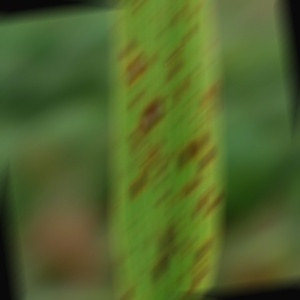Bacterial_Leaf_Blight: (158, 220, 174, 261), (208, 76, 221, 126), (140, 101, 161, 131), (128, 171, 148, 201), (127, 54, 143, 84), (182, 174, 201, 198), (130, 125, 145, 155), (153, 256, 168, 285), (179, 142, 192, 170), (193, 131, 208, 155), (192, 267, 207, 286), (183, 23, 196, 44), (200, 149, 213, 170), (196, 240, 209, 261), (209, 190, 222, 208), (177, 80, 187, 99), (192, 201, 204, 216), (200, 188, 210, 206), (180, 265, 191, 280), (188, 4, 198, 20), (168, 48, 179, 62), (202, 89, 211, 106), (175, 8, 185, 23), (175, 239, 185, 254), (157, 175, 166, 191), (158, 190, 168, 204), (144, 56, 153, 71), (207, 201, 216, 216), (159, 22, 168, 36), (168, 284, 182, 293), (194, 259, 206, 269), (120, 290, 132, 300), (162, 154, 169, 171), (122, 42, 131, 55), (148, 157, 156, 171), (131, 94, 140, 106), (144, 238, 156, 247), (153, 166, 162, 178), (187, 67, 197, 77), (135, 1, 144, 11), (153, 142, 162, 152), (171, 218, 180, 228), (173, 228, 183, 237), (112, 202, 122, 211), (115, 253, 123, 264), (189, 284, 197, 295), (193, 110, 202, 119), (197, 120, 206, 129), (131, 272, 140, 281), (184, 241, 194, 249), (111, 19, 119, 29), (131, 162, 139, 172), (139, 146, 147, 156), (201, 63, 209, 73), (155, 46, 162, 57), (171, 146, 178, 157), (157, 97, 164, 108), (206, 44, 214, 53), (174, 190, 182, 199), (169, 200, 177, 209), (171, 211, 180, 219), (185, 248, 194, 256), (158, 81, 166, 90), (124, 187, 132, 196), (148, 231, 156, 240), (155, 155, 161, 167), (182, 106, 190, 115), (167, 102, 174, 112), (142, 271, 149, 281), (128, 283, 135, 293), (184, 206, 191, 216), (208, 236, 215, 246), (136, 241, 144, 249), (188, 51, 195, 60), (188, 93, 195, 102), (121, 252, 128, 261), (170, 83, 176, 93), (179, 292, 191, 297), (159, 10, 166, 18), (204, 109, 211, 117), (198, 216, 205, 224), (146, 133, 153, 141), (124, 166, 131, 174), (209, 265, 216, 273), (144, 153, 150, 162), (161, 140, 167, 149), (153, 10, 160, 17), (147, 263, 154, 270), (170, 265, 177, 272), (169, 279, 176, 286), (186, 117, 193, 124), (176, 119, 182, 127), (127, 223, 133, 230), (139, 223, 145, 229)
